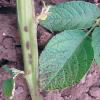Potato leaf early blight: (34, 29, 96, 93), (36, 0, 100, 33)
